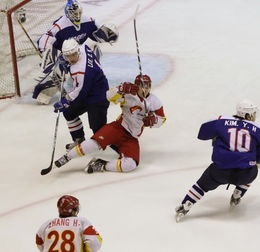falling: (50, 69, 173, 178)
